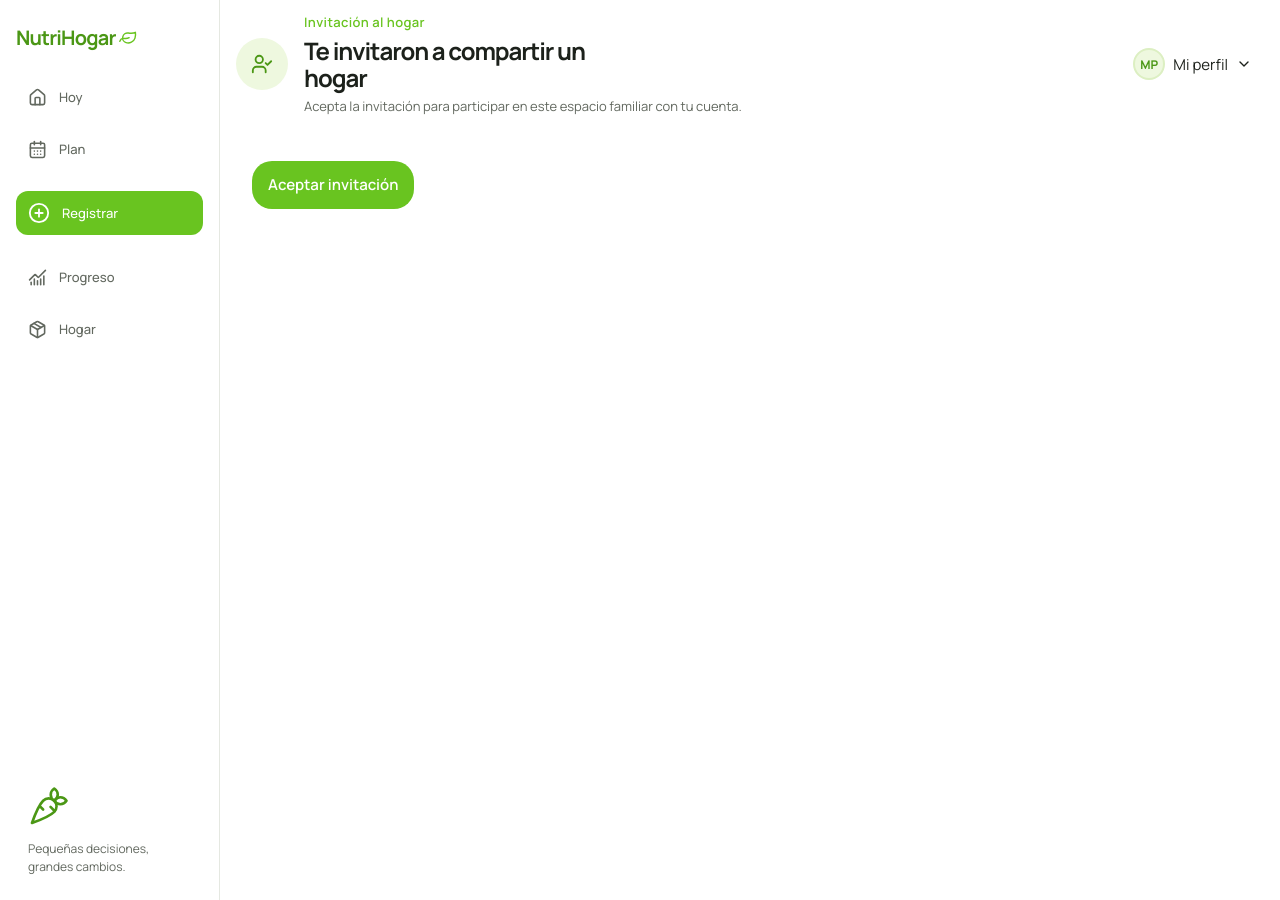
AcceptHouseholdInvitationPage › explains when the invitation has expired
Step 1. Click the button "Aceptar invitación" → click(333, 185), box [252,161,414,209]
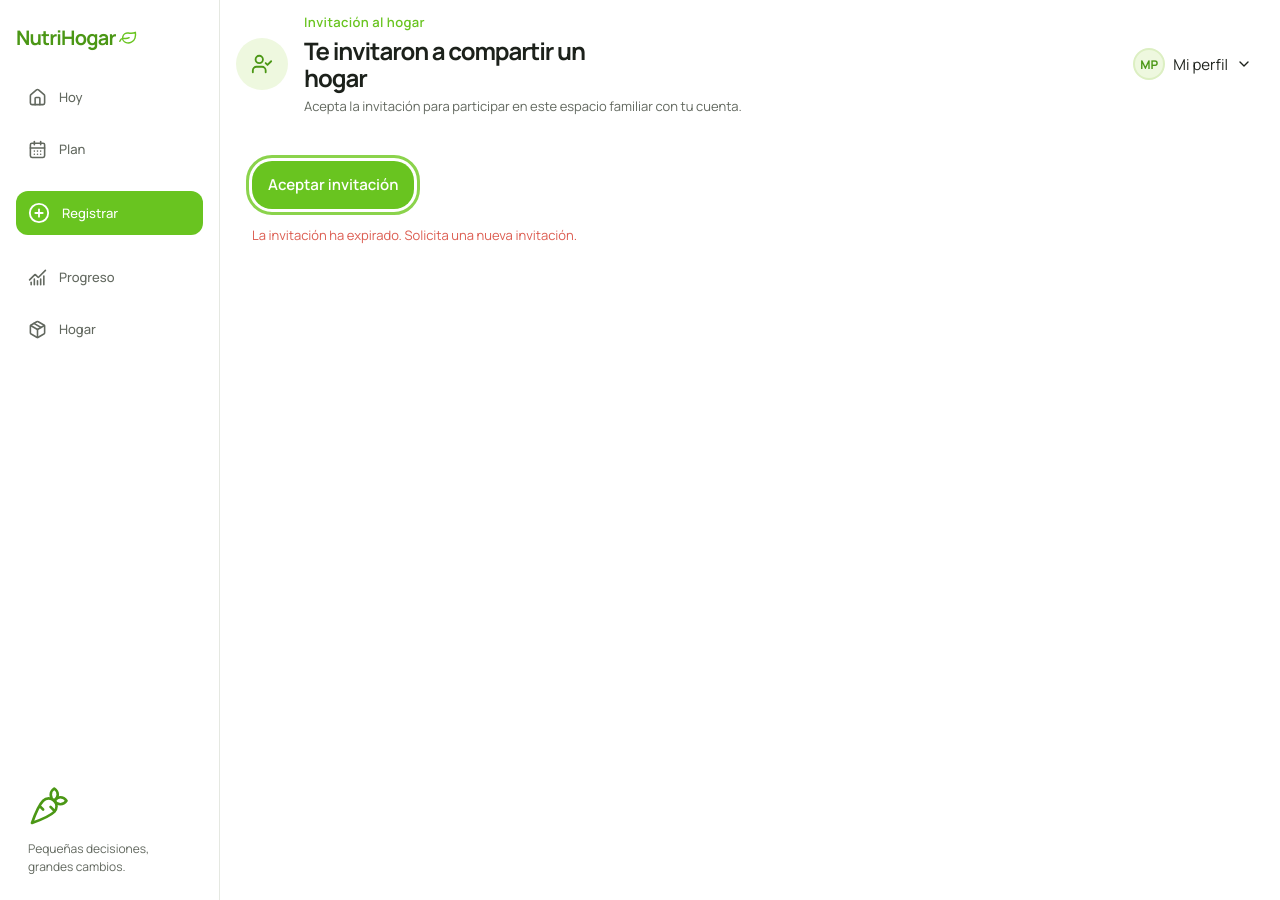
Check: the text "La invitación ha expirado. Solicita una nueva invitación." is shown, box [252,226,577,244]
